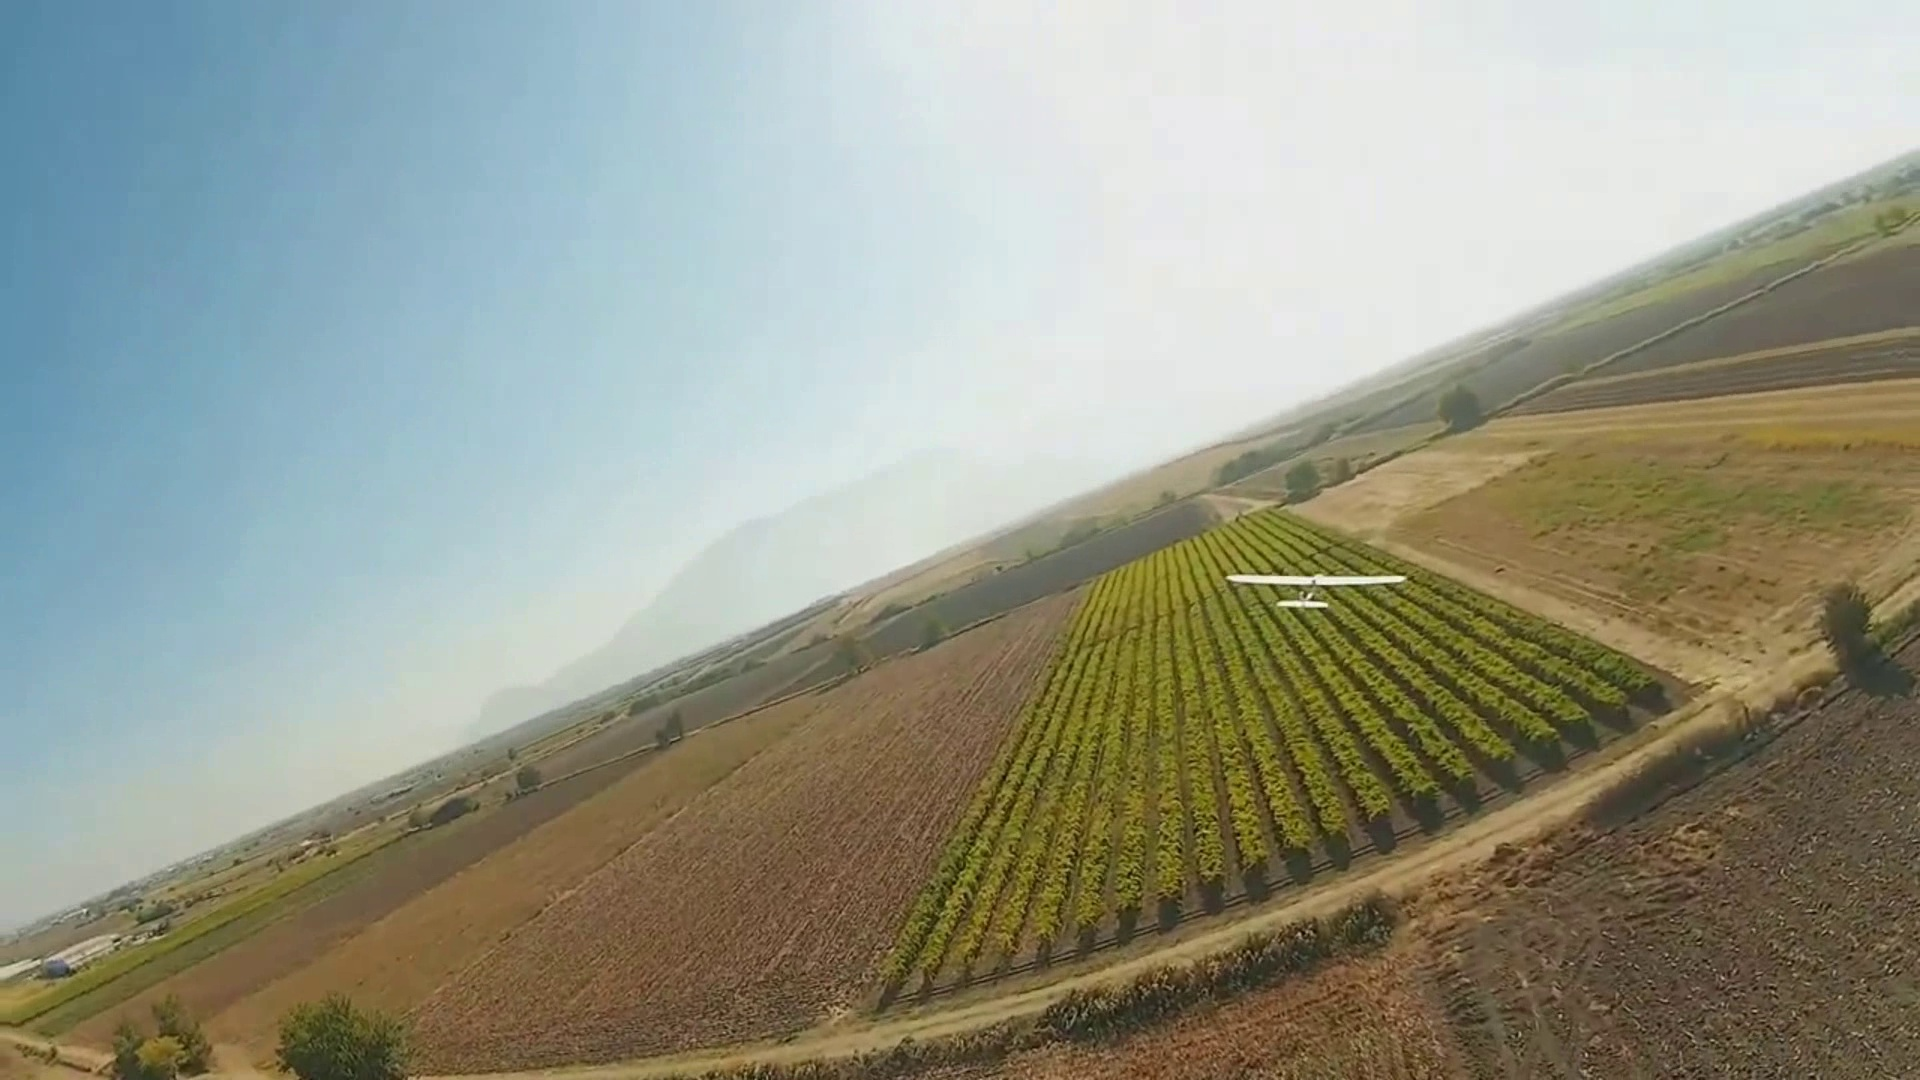airplane: (26, 156, 1920, 1027)
